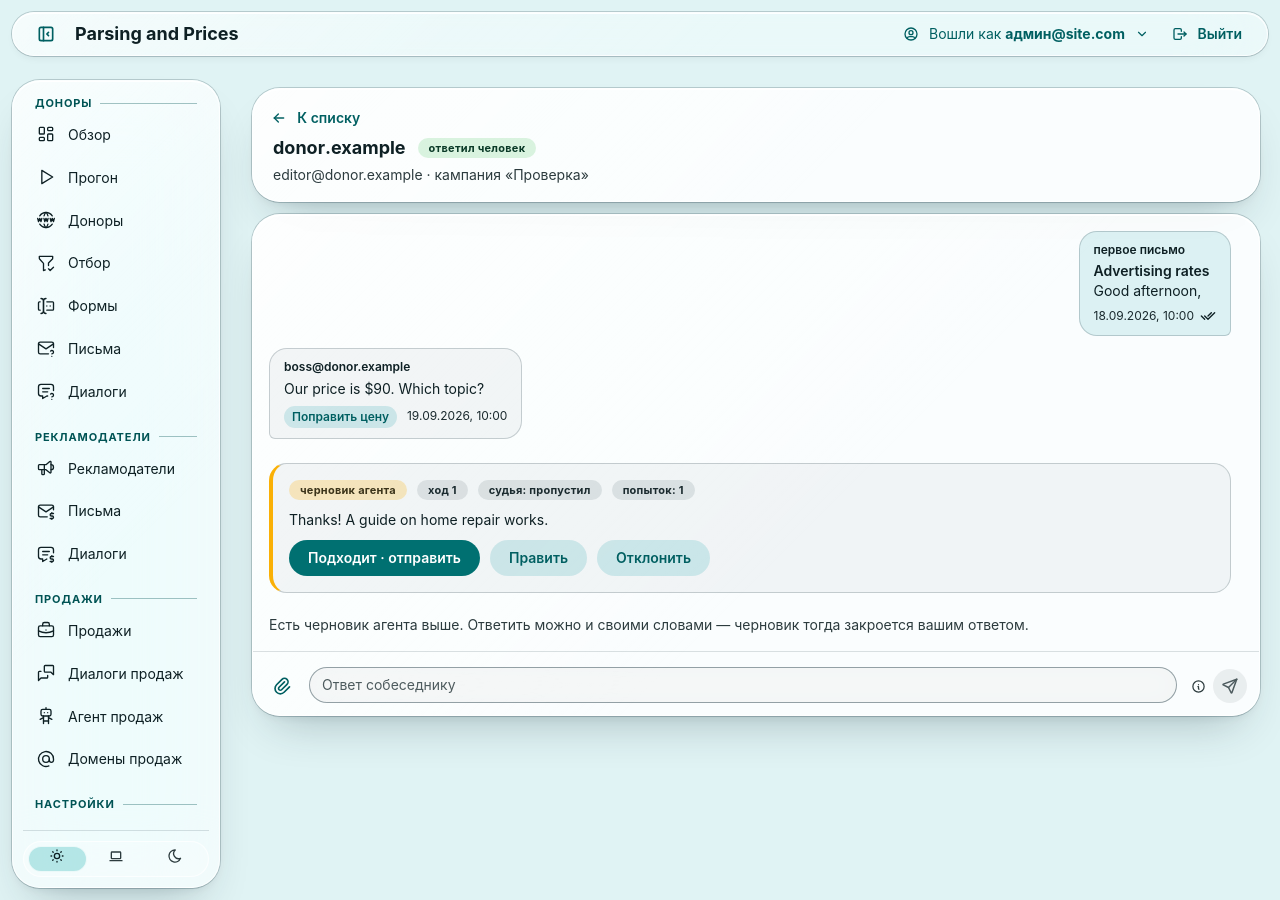
it: плашка черновика агента › A1: готовый черновик уходит как есть, и плашка исчезает
The width and height of the screenshot is (1280, 900).
Expected: the heading "donor.example" is shown, x1=273 y1=135 x2=406 y2=161
Expected: the text "черновик агента" is shown, x1=300 y1=481 x2=396 y2=499
Click the button "Подходит · отправить" at (384, 558), box x1=289 y1=540 x2=480 y2=576
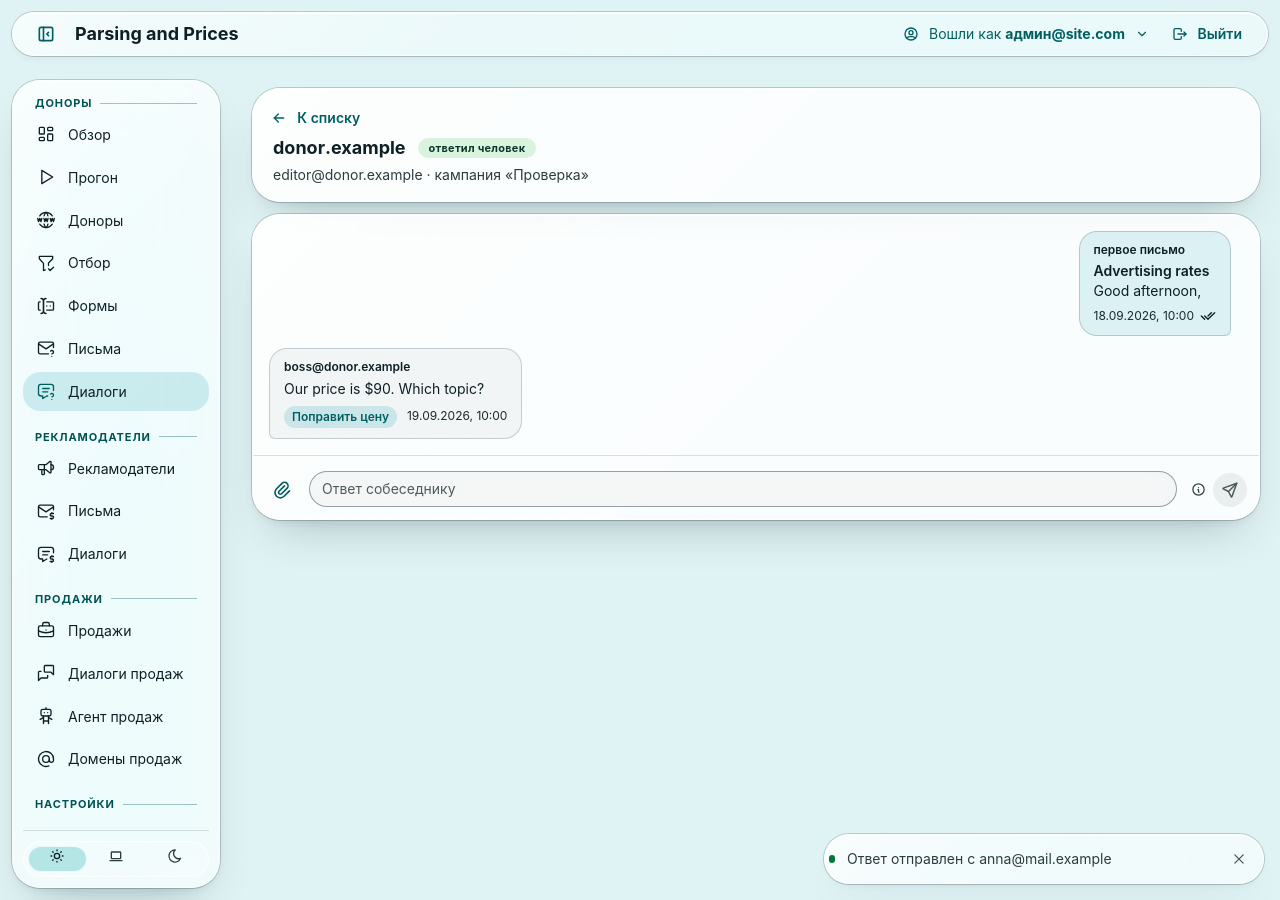
Result: the text "Ответ отправлен с anna@mail.example" is shown at x1=847 y1=850 x2=1112 y2=867
Result: the text "черновик агента" is gone
